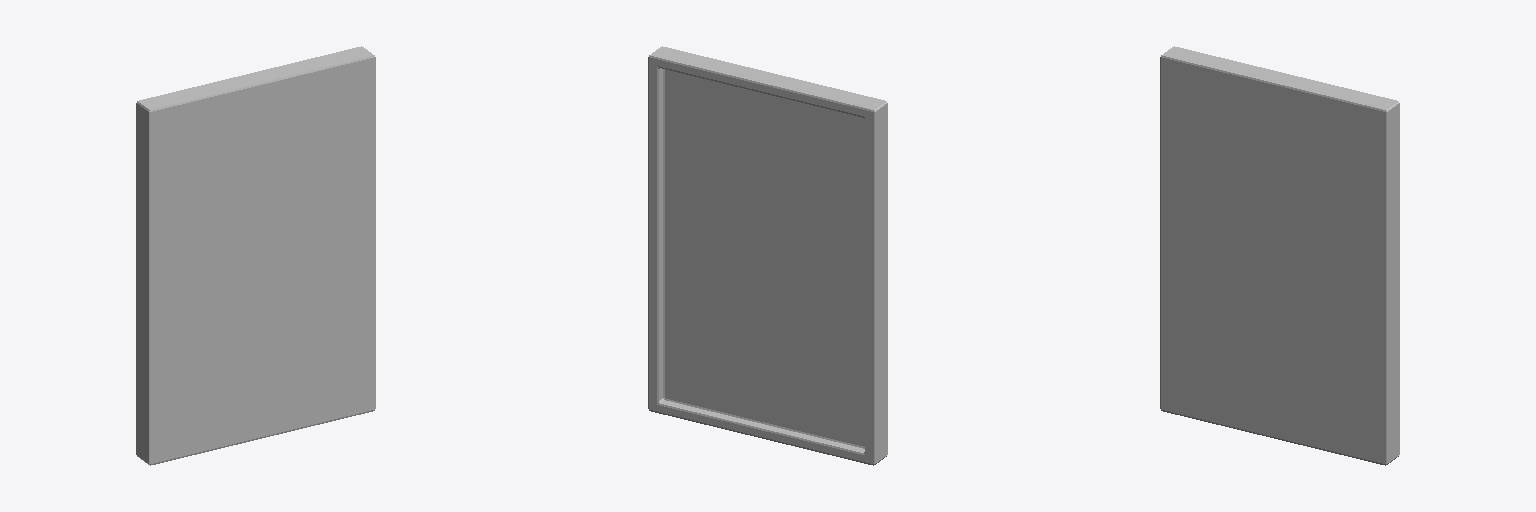
Rendered from WaifuPod.obj.
3 renders of one model, left to right at view 1: azimuth 30°, elevation 25°; view 2: azimuth 150°, elevation 25°; view 3: azimuth 330°, elevation 25°, orthographic.
Visible parts, largest first — view 1: Cube_Cube.001; view 2: Cube_Cube.001; view 3: Cube_Cube.001.
Boxes of the visible parts, x1,y1,x2,y2 form: Cube_Cube.001: [136, 46, 375, 465]; Cube_Cube.001: [648, 46, 887, 465]; Cube_Cube.001: [1160, 46, 1399, 465].
Size of the model in its own units: 0.7425 by 1.11 by 0.075.